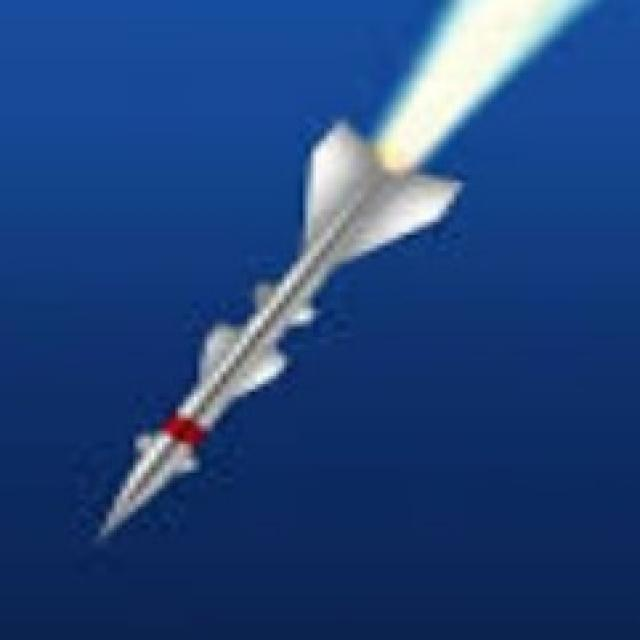missile: (90, 116, 469, 550)
